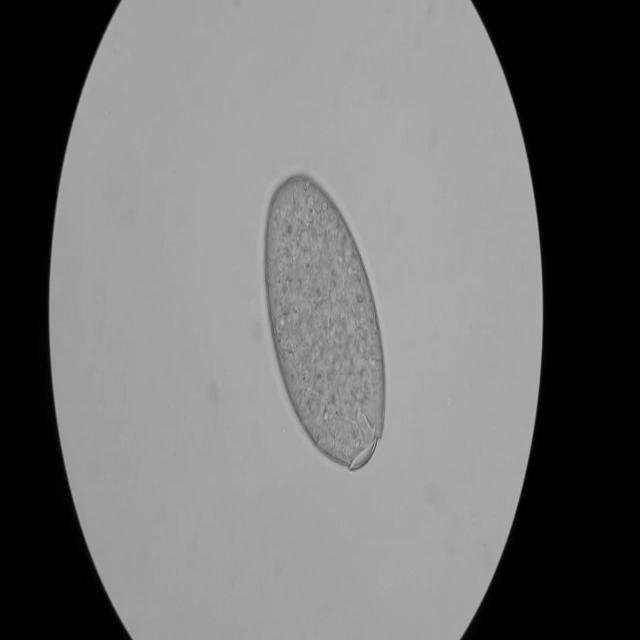Fasciola Hepatica: (252, 156, 392, 486)
